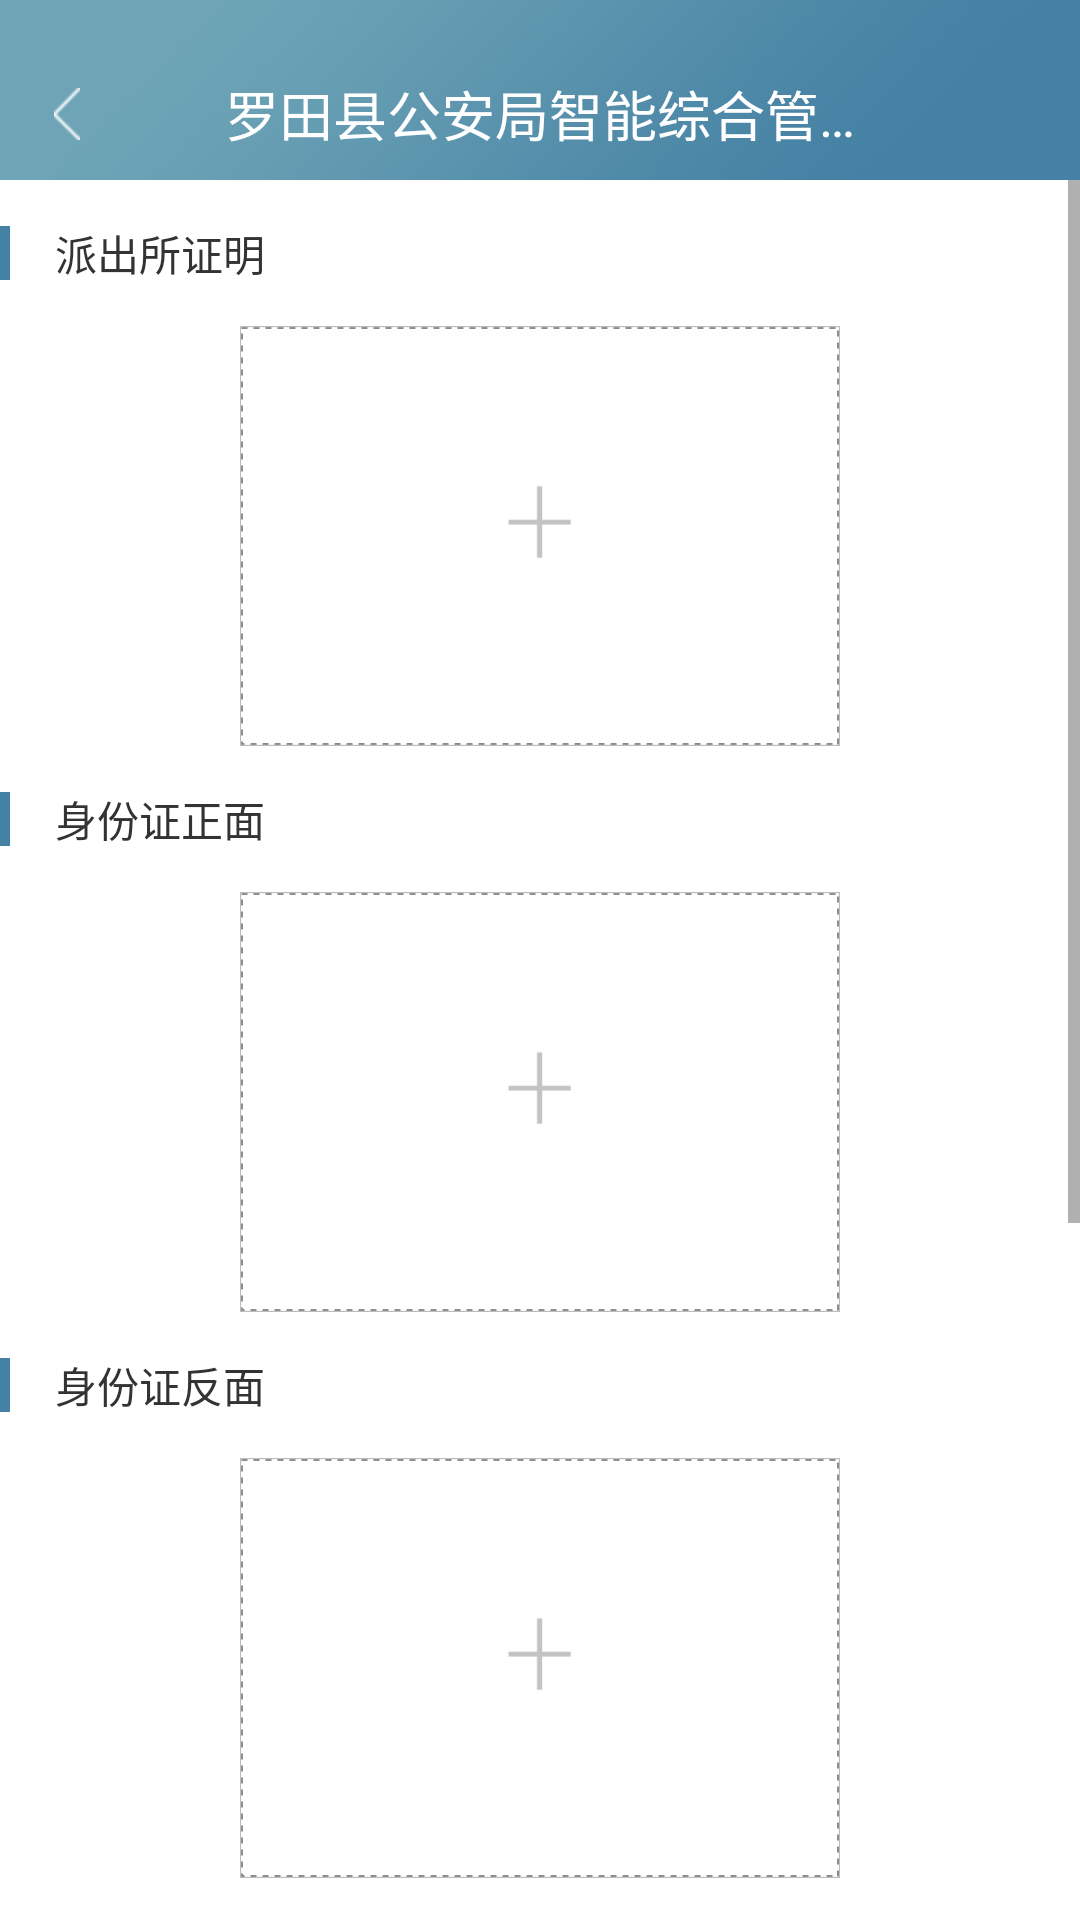

Named icons in this screenshot (1080px×1920px) and their bounding boxes, [x1, y1, x2, y2]:
back: [54, 88, 80, 140]
